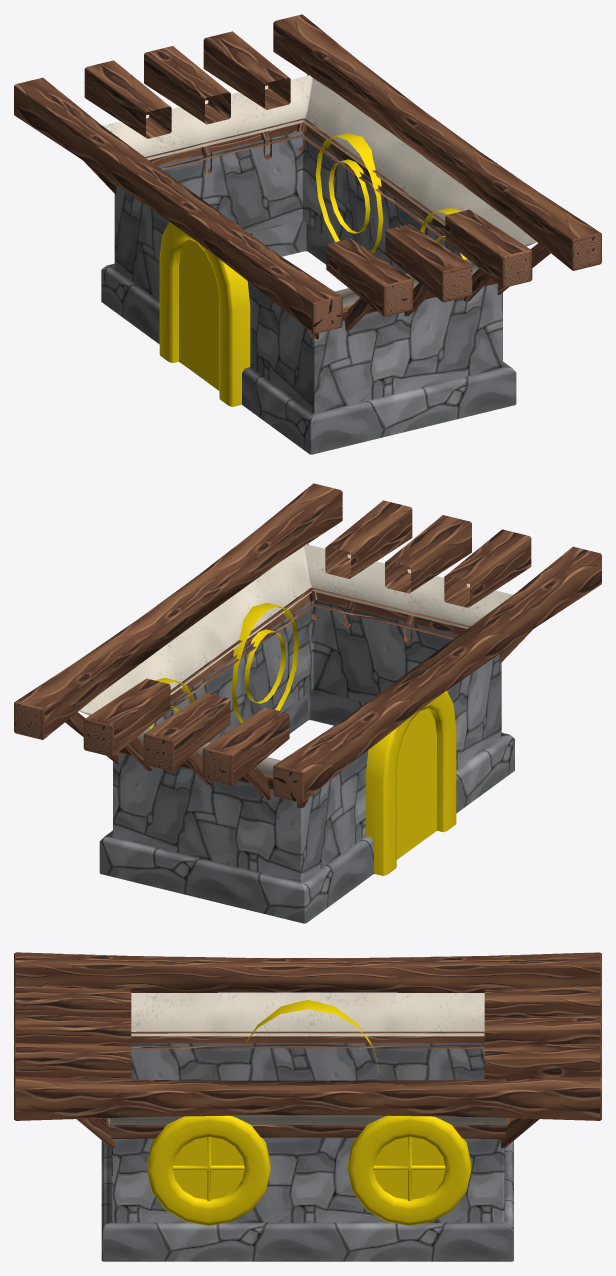
Rendered from house_ground_floor3.FBX.
3 renders of one model, top to bottom at view 1: azimuth 30°, elevation 25°; view 2: azimuth 150°, elevation 25°; view 3: azimuth 270°, elevation 25°, orthographic.
Visible parts, largest first — view 1: ground_floor003; view 2: ground_floor003; view 3: ground_floor003.
Part boxes in pixels (box(x1,y1,x2,y2)): ground_floor003: box(14, 14, 601, 454); ground_floor003: box(14, 483, 601, 923); ground_floor003: box(14, 952, 601, 1261).
Bounding box in the file's own units: 366 × 235 × 655.
